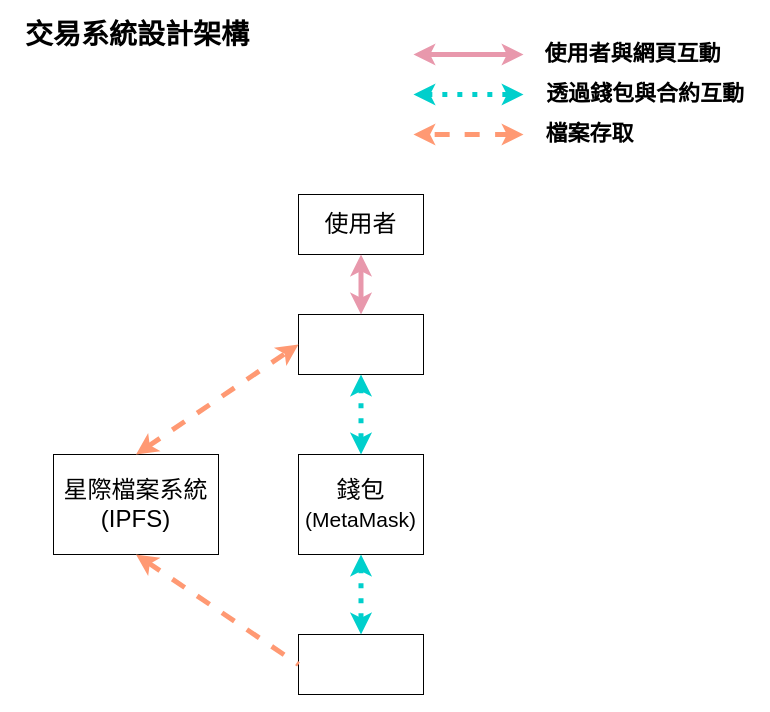
Some shapes in this 770 by 712 pixel diagram are drawn without their labels. The centre of each missing label's shape, as x and y in pixels:
"智能合約" goes at [361,664].
"網頁" goes at [361,344].
